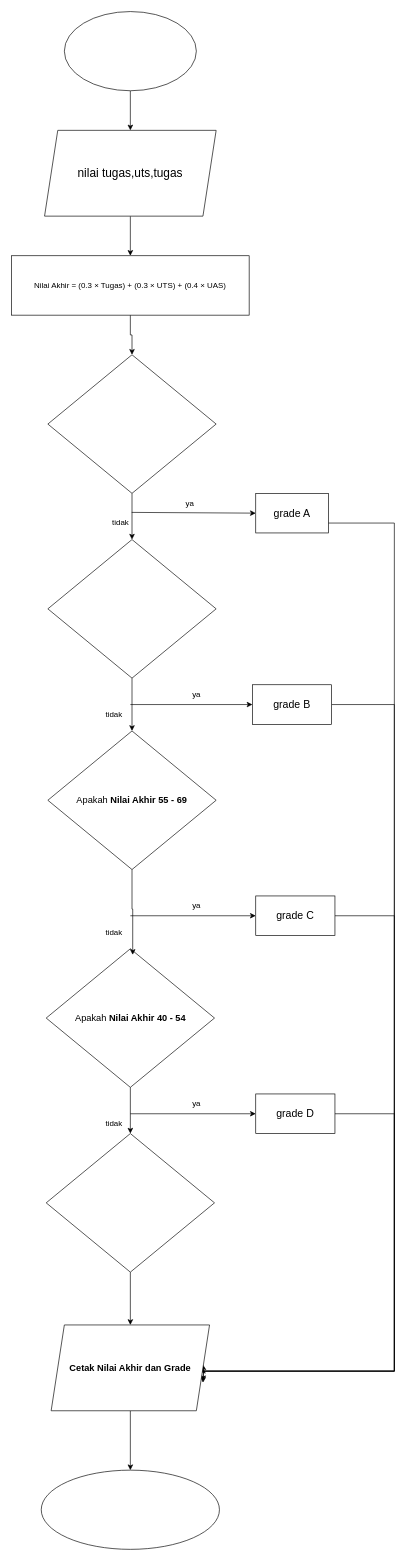
This 411x1561 diagram has some shape labels left out. The shapes that lost their labels are listed below. From the top down, each one's centre as x and y in pixels, then its label:
pixel 130 51: mulai
pixel 131 423: Apakah Nilai Akhir 85 - 100
pixel 131 608: Apakah Nilai Akhir 70 - 84
pixel 130 1202: Apakah Nilai Akhir 40
pixel 130 1509: selesai
